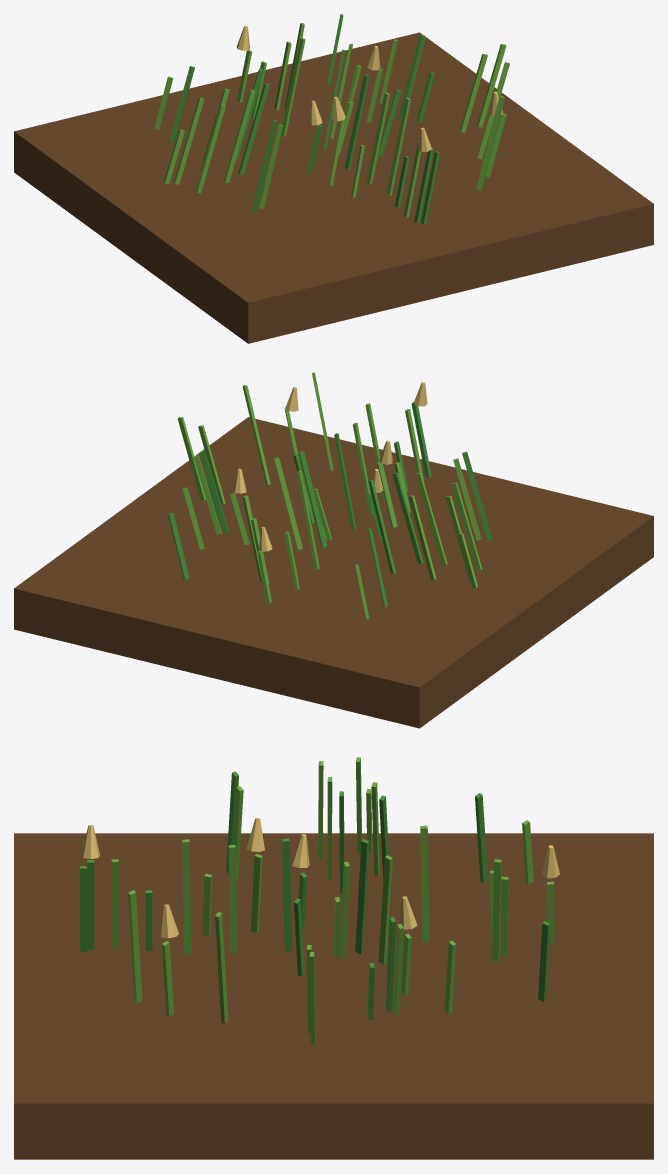
File: tall_grass.glb
3 renders of one model, top to bottom at view 1: azimuth 30°, elevation 25°; view 2: azimuth 150°, elevation 25°; view 3: azimuth 270°, elevation 25°, orthographic. The views are drawn at different scales.
Parts seen in each view (by area): view 1: TerrainBase, TallGrass.032, TallGrass.040, TallGrass.008, TallGrass.036, TallGrass.002, TallGrass.018, TallGrass.023, TallGrass.010, TallGrass.026, TallGrass.005, TallGrass.017 (+3 smaller); view 2: TerrainBase, TallGrass.015, TallGrass.032, TallGrass.018, TallGrass.023, TallGrass.022, TallGrass.029, TallGrass.027, TallGrass.040, TallGrass.039, TallGrass.025, TallGrass.006 (+3 smaller); view 3: TerrainBase, TallGrass.015, TallGrass.008, TallGrass.022, TallGrass.040, TallGrass.036, TallGrass.002, TallGrass.029, TallGrass.026, TallGrass.001, TallGrass.033, TallGrass (+13 smaller).
Part boxes in pixels (box(x1,y1,x2,y2)): TerrainBase: box(14, 32, 653, 343); TallGrass.032: box(223, 90, 255, 182); TallGrass.040: box(281, 37, 305, 136); TallGrass.008: box(476, 96, 504, 190); TallGrass.036: box(344, 74, 369, 169); TallGrass.002: box(386, 98, 410, 195); TallGrass.018: box(238, 83, 269, 174); TallGrass.023: box(195, 105, 225, 193); TallGrass.010: box(173, 98, 204, 184); TallGrass.026: box(366, 92, 389, 183); TallGrass.005: box(477, 44, 506, 127); TallGrass.017: box(459, 54, 487, 132); TerrainBase: box(14, 417, 653, 728); TallGrass.015: box(298, 451, 327, 547); TallGrass.032: box(415, 472, 447, 565); TallGrass.018: box(392, 472, 423, 563); TallGrass.023: box(451, 482, 482, 570); TallGrass.022: box(274, 457, 302, 550); TallGrass.029: box(242, 385, 270, 484); TallGrass.027: box(368, 479, 395, 573); TallGrass.040: box(297, 470, 319, 570); TallGrass.039: box(462, 451, 492, 541); TallGrass.025: box(408, 495, 436, 579); TallGrass.006: box(199, 450, 228, 533); TerrainBase: box(14, 833, 653, 1159); TallGrass.015: box(355, 839, 369, 953); TallGrass.008: box(128, 890, 142, 1002); TallGrass.022: box(378, 855, 392, 964); TallGrass.040: box(420, 825, 429, 942); TallGrass.036: box(282, 838, 292, 951); TallGrass.002: box(182, 839, 191, 954); TallGrass.029: box(215, 912, 228, 1023); TallGrass.026: box(228, 845, 237, 952); TallGrass.001: box(492, 859, 501, 961); TallGrass.033: box(475, 793, 488, 882); TallGrass: box(87, 860, 94, 949).
Bounding box in the file's own units: 6 × 2.06 × 6.
